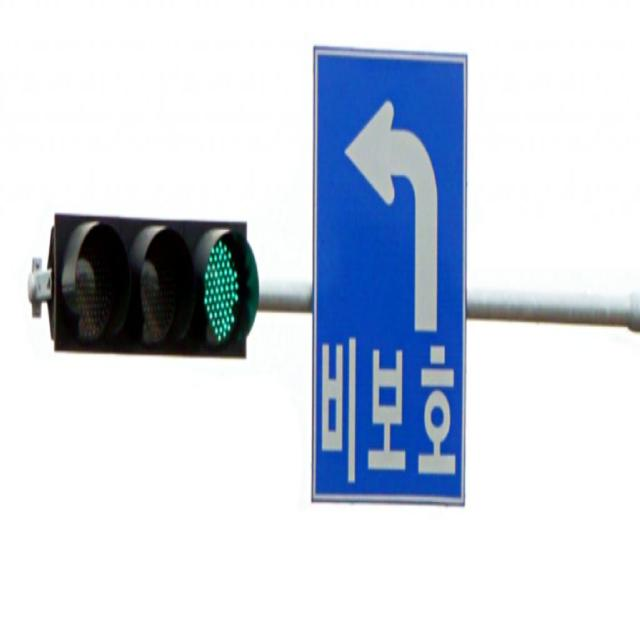Green Light: (198, 219, 257, 356)
